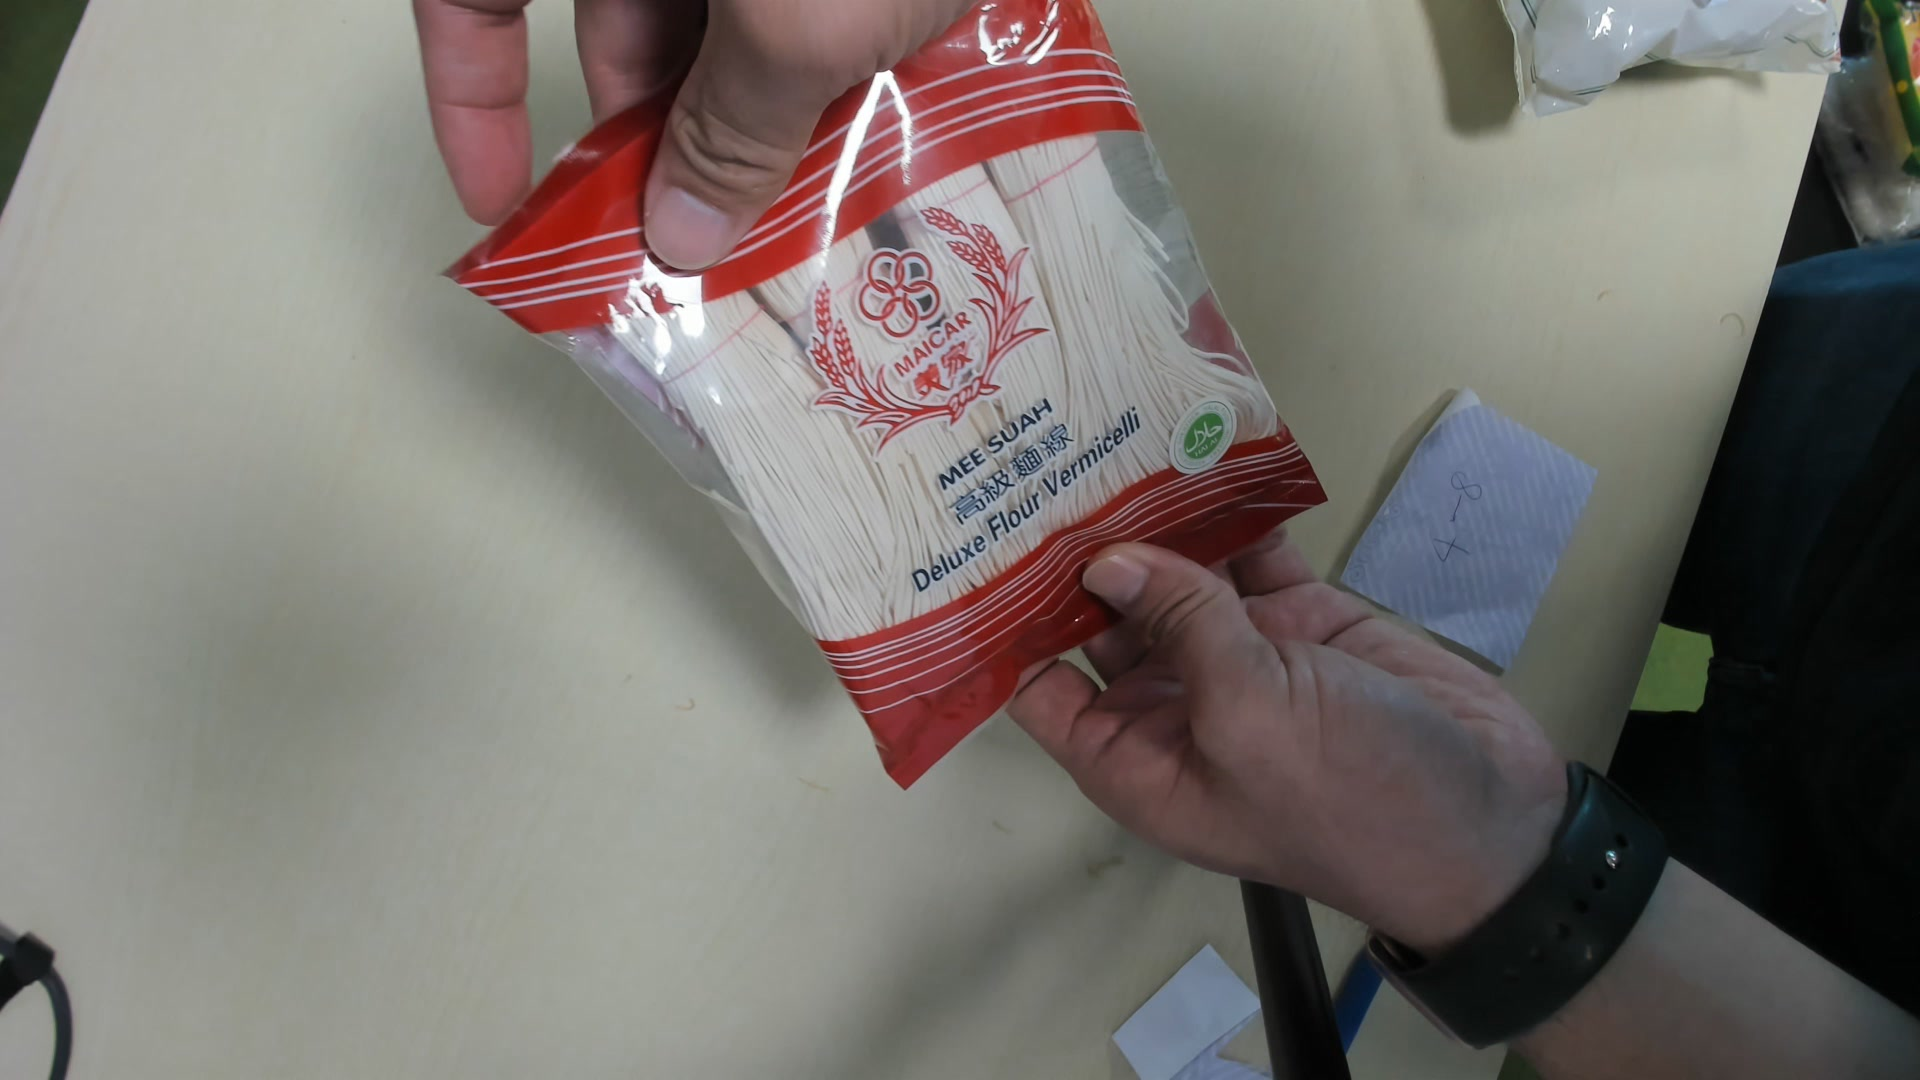BeeHoonVermicelli_100-199g_Halal_NonHealthy: (462, 9, 1333, 771)
